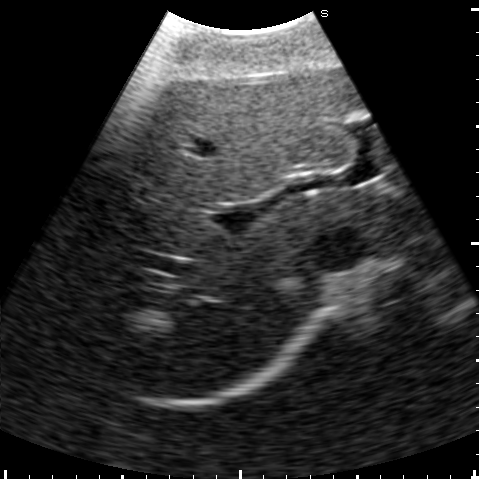IVC: (318, 230, 362, 270)
S1: (335, 190, 411, 242)
S2: (382, 171, 420, 202)
S3: (342, 76, 399, 167)
S4: (126, 66, 352, 203)
Tumor: (129, 312, 171, 332), (276, 277, 301, 293)
